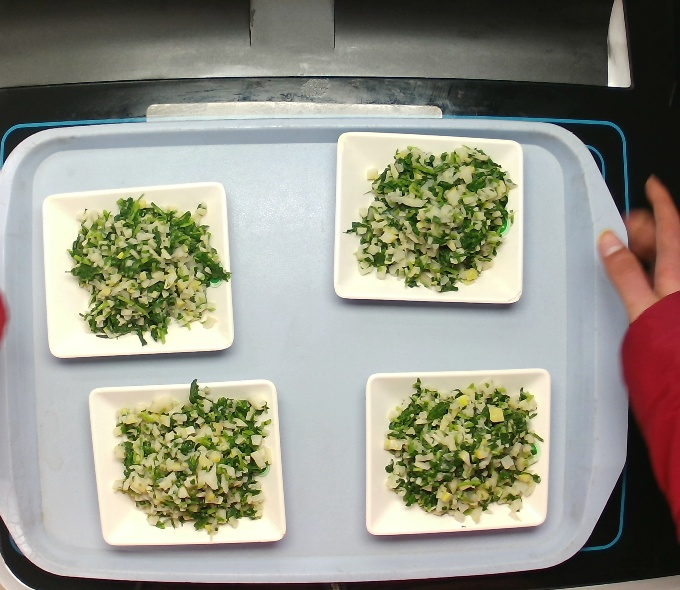wcq-MaLanTouBanChunSun: (53, 182, 231, 356), (336, 137, 526, 298), (375, 375, 549, 524), (111, 377, 271, 539)
